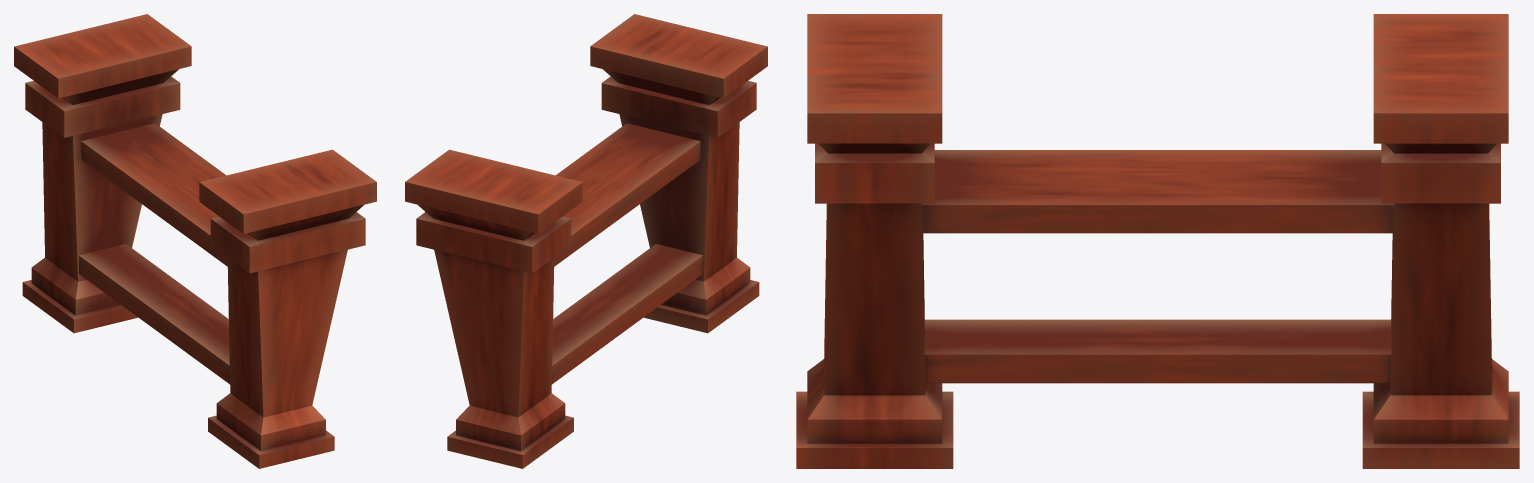
File: shelf_2.fbx
3 views of the same model, side by side, from view 1: azimuth 30°, elevation 25°; view 2: azimuth 150°, elevation 25°; view 3: azimuth 270°, elevation 25° (orthographic). The views are drawn at different scales.
Visible parts, largest first — view 1: shelf; view 2: shelf; view 3: shelf.
Part boxes in pixels (x1,y1,x2,y2): shelf: (14,14,376,468); shelf: (405,14,767,468); shelf: (796,14,1519,468).
Size of the model in its own units: 363 by 662 by 1114.
